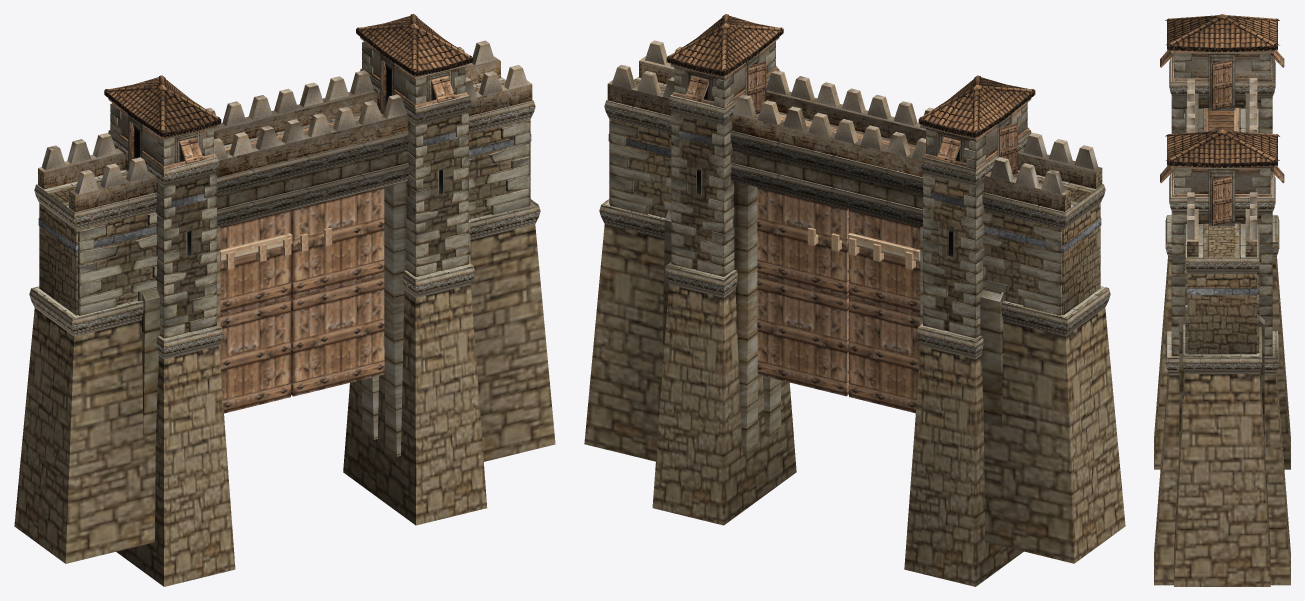
Rendered from sele_gate.glb.
The picture shows the model from 3 angles, left to right: view 1: azimuth 30°, elevation 25°; view 2: azimuth 150°, elevation 25°; view 3: azimuth 270°, elevation 25°; orthographic projection. The views are drawn at different scales.
Visible parts, largest first — view 1: sele_gate_part0, sele_gate_part1; view 2: sele_gate_part0, sele_gate_part1; view 3: sele_gate_part0.
Part boxes in pixels (x1,y1,x2,y2): sele_gate_part0: (14,14,555,586); sele_gate_part1: (220,187,384,413); sele_gate_part0: (584,14,1125,586); sele_gate_part1: (757,187,920,413); sele_gate_part0: (1154,14,1290,586).
Size of the model in its own units: 3.8 by 3.46 by 0.9775.
Materials: 1 (1 with a texture image).
